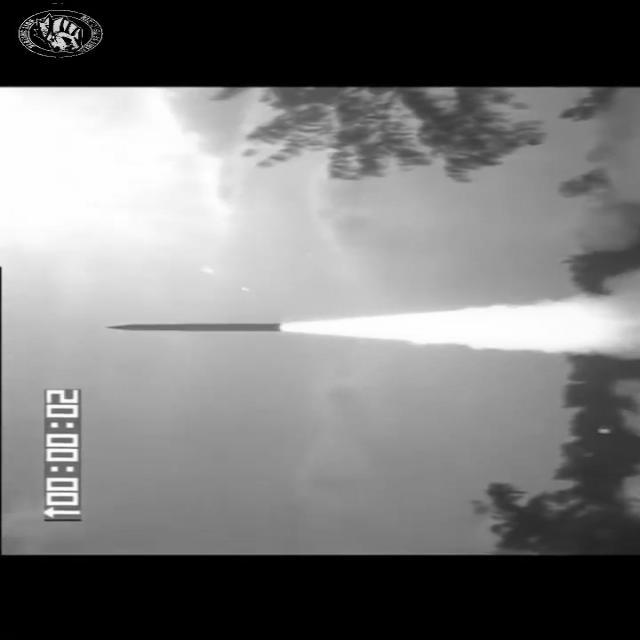Missile: (98, 320, 294, 336)
